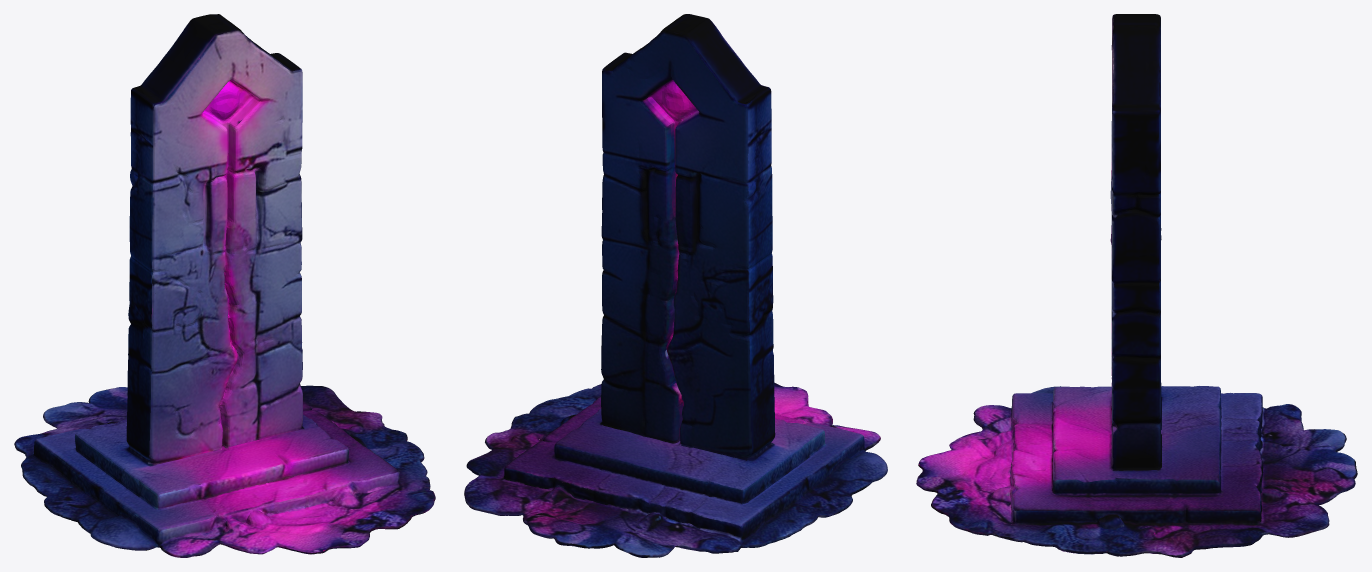
The model's file is weathered-monolith-pillar-generated-2026-05-17T19-16-10-569Z.glb.
The picture shows the model from 3 angles, left to right: view 1: azimuth 30°, elevation 25°; view 2: azimuth 150°, elevation 25°; view 3: azimuth 270°, elevation 25°; orthographic projection.
Visible parts, largest first — view 1: temp_mesh.ply; view 2: temp_mesh.ply; view 3: temp_mesh.ply.
Boxes of the visible parts, x1,y1,x2,y2 form: temp_mesh.ply: (14, 14, 435, 557); temp_mesh.ply: (464, 14, 887, 557); temp_mesh.ply: (916, 14, 1357, 557).
Size of the model in its own units: 1.58 by 1.97 by 1.75.
Materials: 1 (1 with a texture image).
